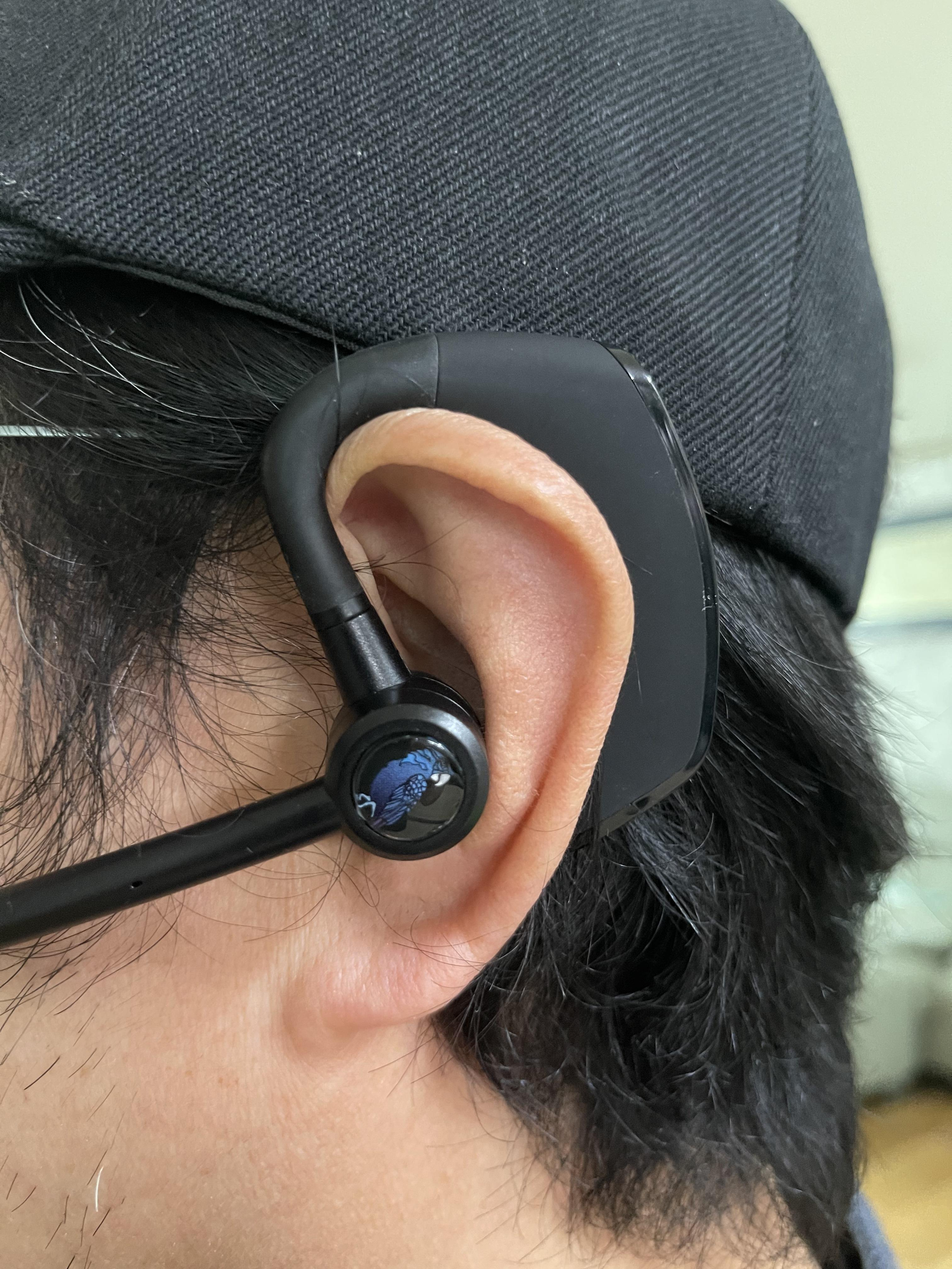earphone: (316, 672, 502, 854)
